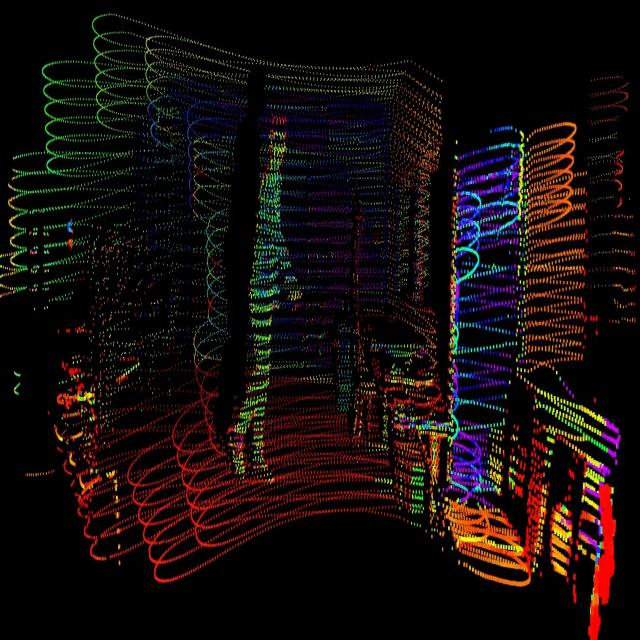human: (230, 104, 302, 477)
